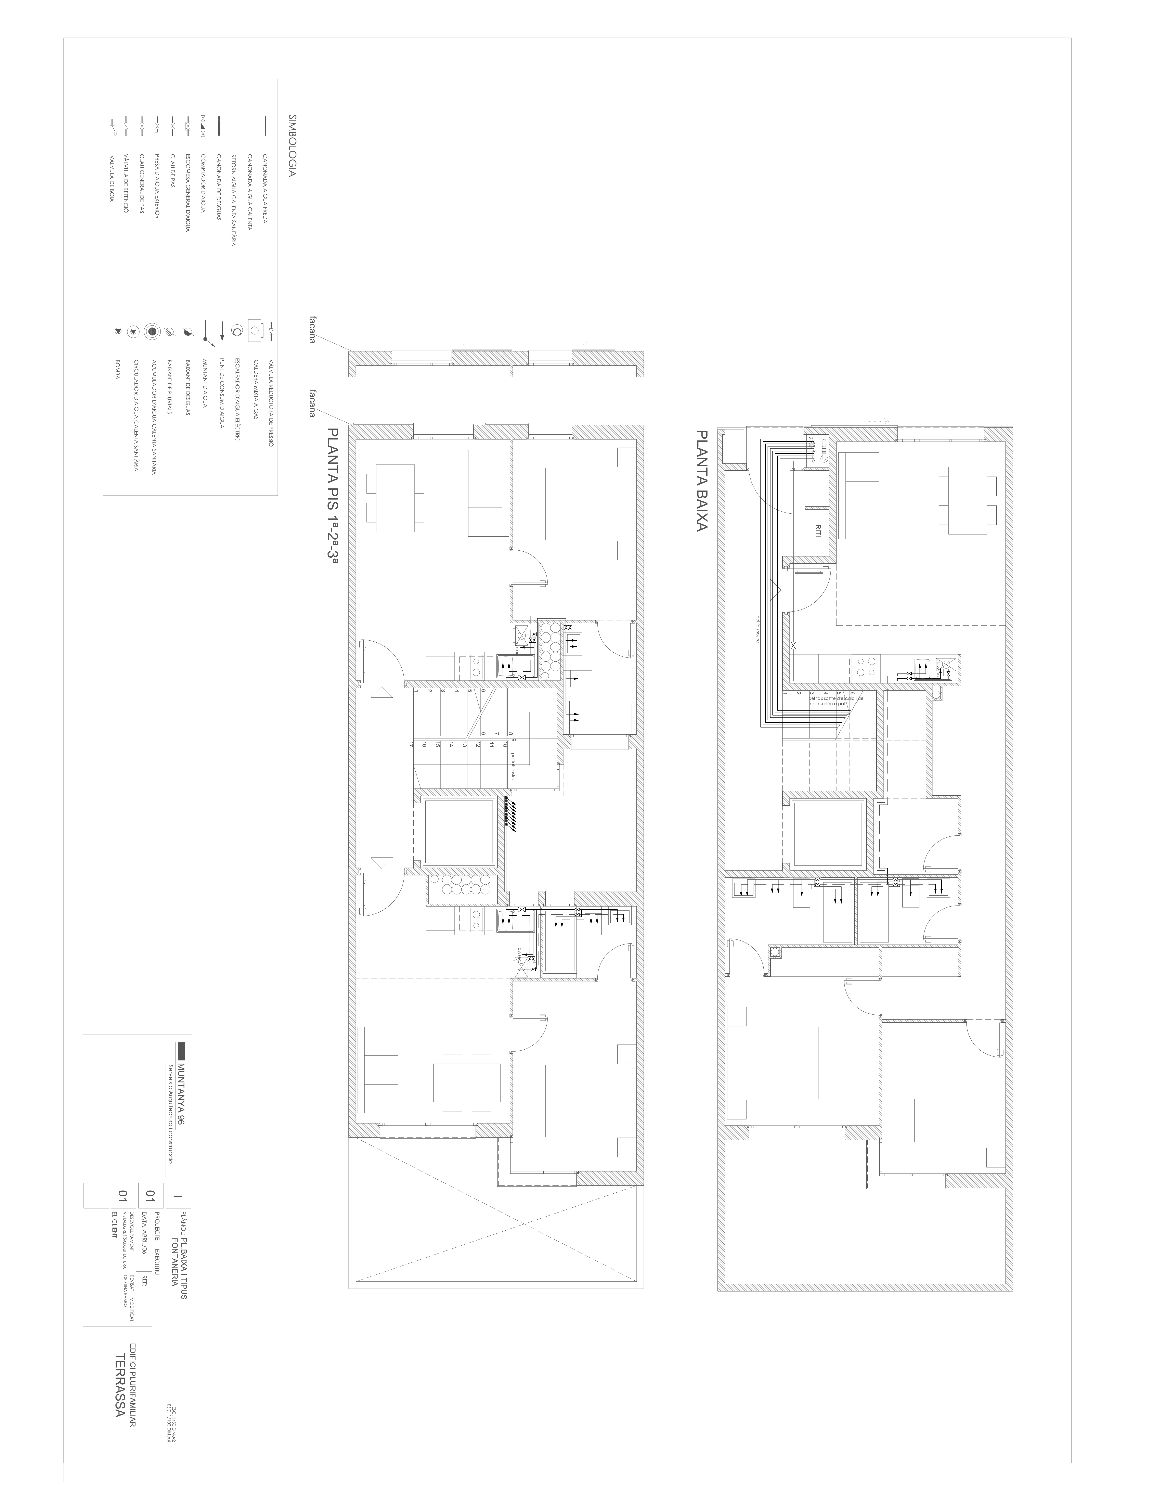door: (357, 639, 408, 687), (783, 566, 831, 615), (361, 871, 407, 916), (724, 937, 768, 977), (962, 1019, 1006, 1058), (922, 832, 962, 873), (922, 902, 962, 944), (843, 977, 883, 1019), (509, 547, 549, 587), (595, 944, 637, 982), (509, 1014, 548, 1054), (595, 621, 635, 658)
window: (411, 423, 476, 442), (528, 423, 575, 442)
